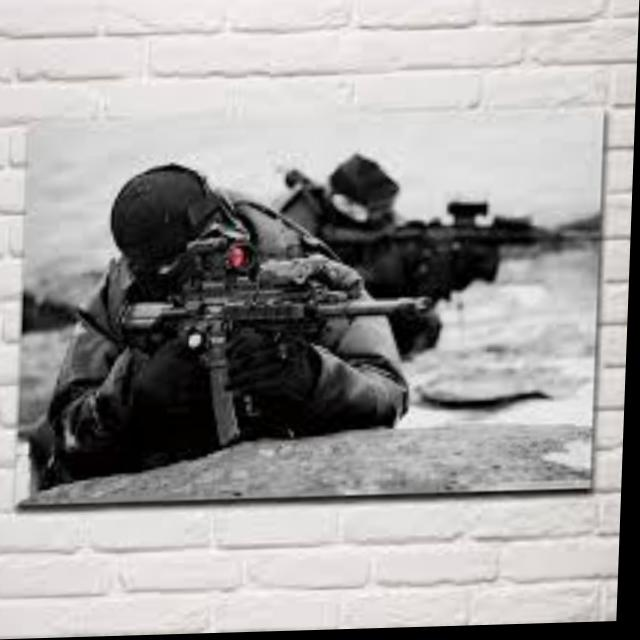other: (32, 136, 411, 487), (266, 125, 494, 255)
